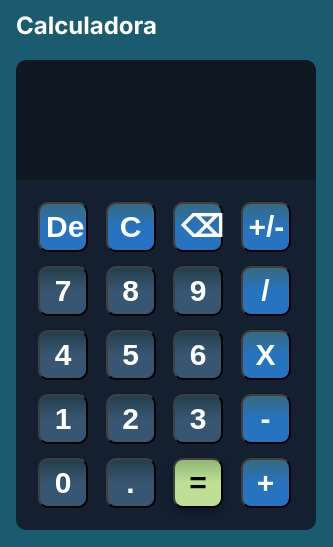
add two numbers
The image size is (333, 547).
Click the button "1" at (63, 419), box top-left (38, 394), bottom-right (88, 444)
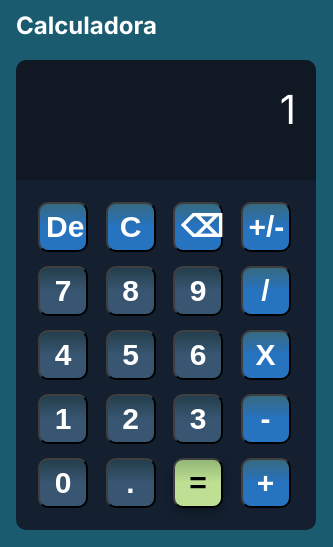
Click the button "+" at (266, 483), box top-left (240, 458), bottom-right (290, 508)
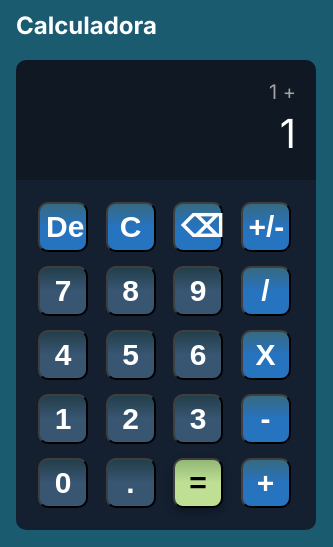
Click the button "2" at (130, 419), box top-left (106, 394), bottom-right (156, 444)
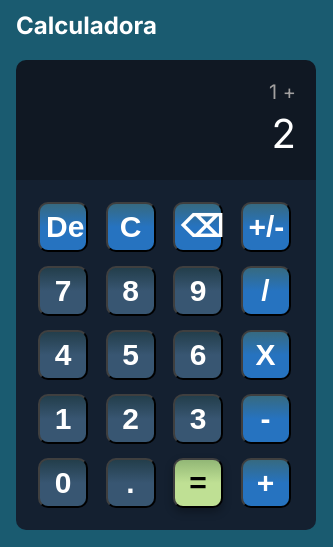
Click the button "=" at (198, 483), box top-left (173, 458), bottom-right (223, 508)
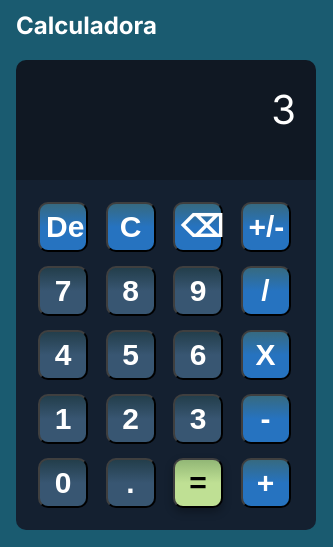
expect the text with test id "resultado" reads "3": met, box top-left (271, 85), bottom-right (296, 134)
